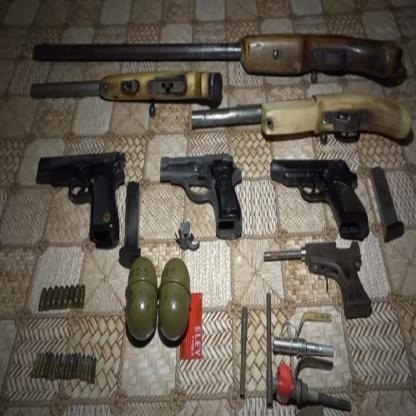Grenade: (157, 253, 192, 343), (124, 255, 158, 345)
Gun: (30, 28, 404, 86), (191, 92, 413, 147), (29, 71, 222, 117)
Pistol: (34, 147, 126, 251), (263, 238, 372, 319), (270, 156, 370, 242), (158, 152, 244, 242)
